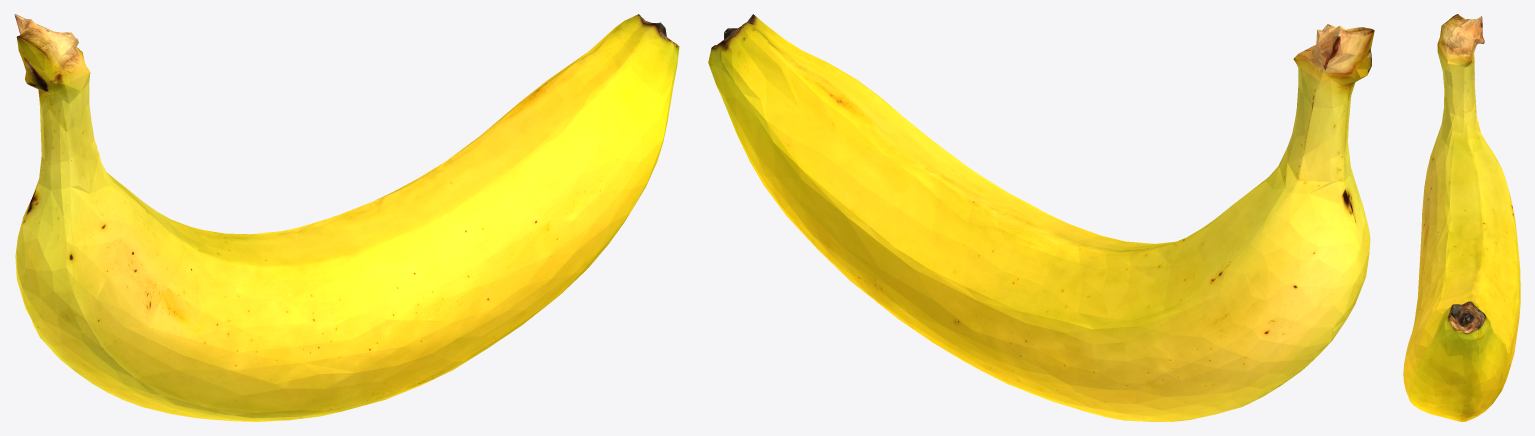
File: banana.glb
3 views of the same model, side by side, from view 1: azimuth 30°, elevation 25°; view 2: azimuth 150°, elevation 25°; view 3: azimuth 270°, elevation 25° (orthographic). The views are drawn at different scales.
Visible parts, largest first — view 1: banana; view 2: banana; view 3: banana.
Boxes of the visible parts, bbox=[...] form: banana: bbox=[14, 14, 679, 421]; banana: bbox=[708, 14, 1374, 421]; banana: bbox=[1403, 14, 1520, 421].
Size of the model in its own units: 6.79 by 4.44 by 1.62.
Materials: 1 (1 with a texture image).
